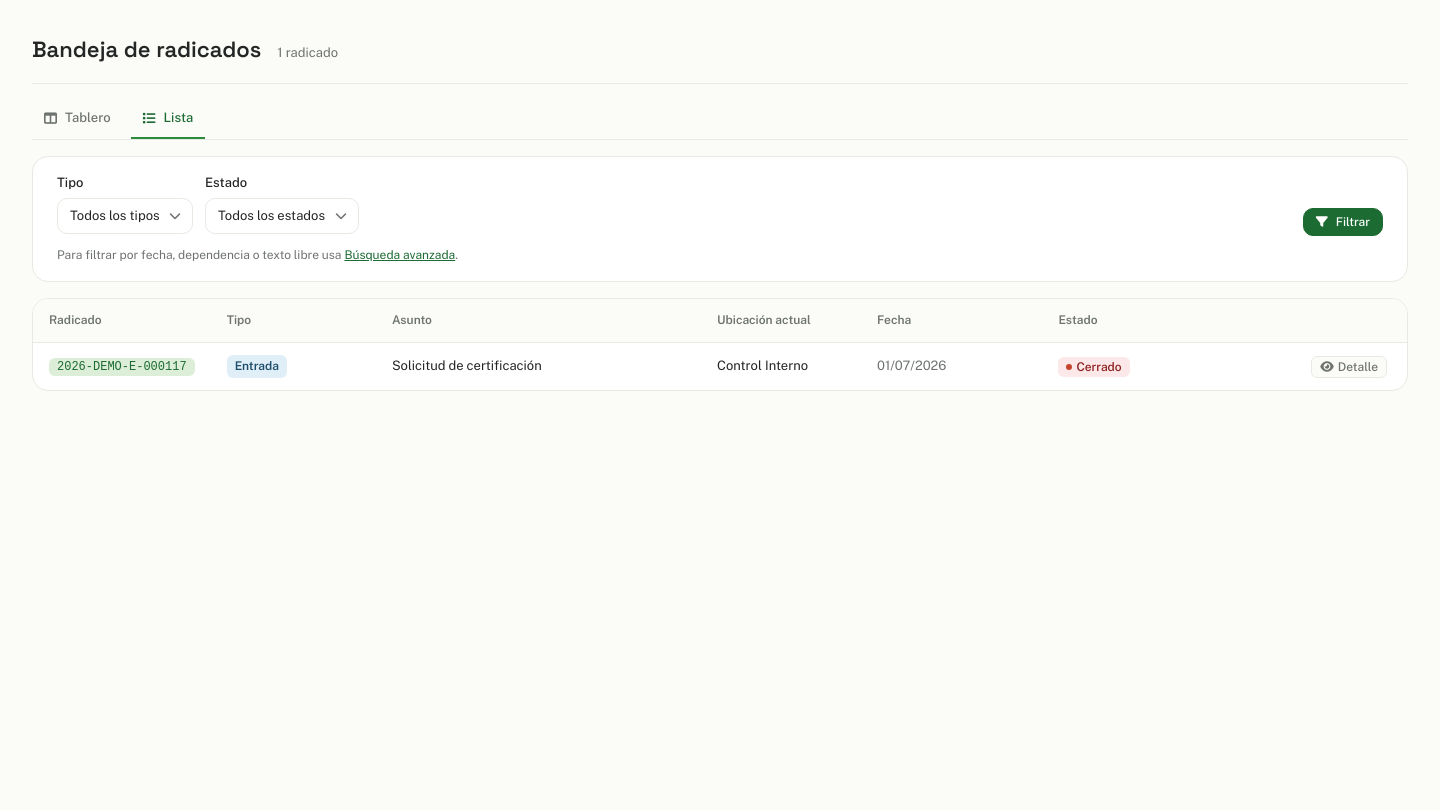
Test: /bandeja — detalle › un cerrado dice «Cerrado en X» y no ofrece responsable
Check: the text "2026-DEMO-E-000117" is shown, box [49, 358, 195, 376]
What coordinates should you click on to do the following:
click the button "Detalle"
I would click on:
 (1349, 367)
Its box is [1311, 356, 1387, 378].
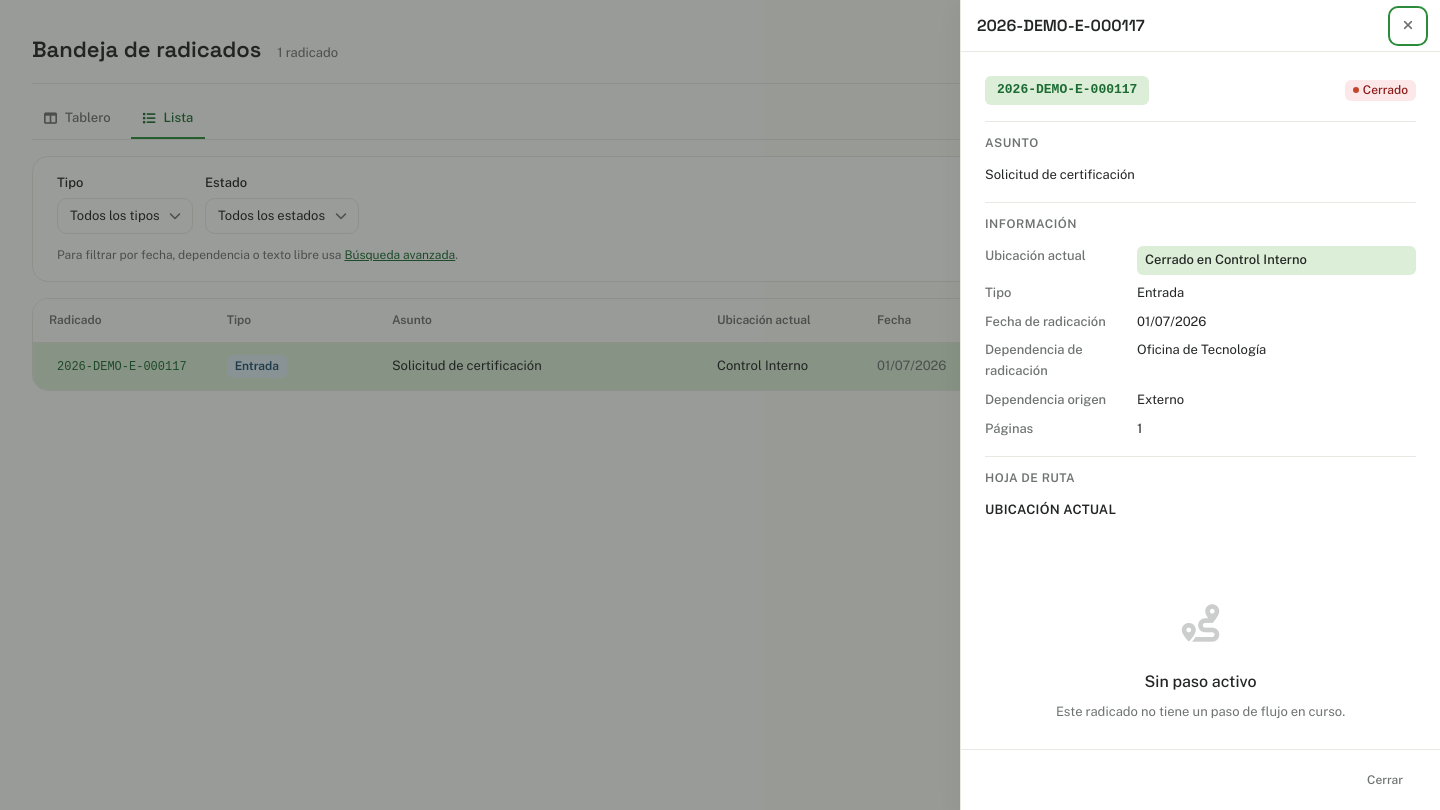
Check: the element with class "doc-detail" is shown, box [985, 76, 1416, 749]
